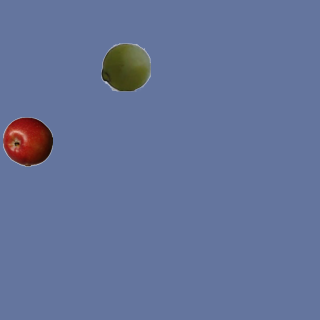Apple Braeburn: (2, 116, 52, 166)
Grape White 4: (100, 41, 150, 91)
